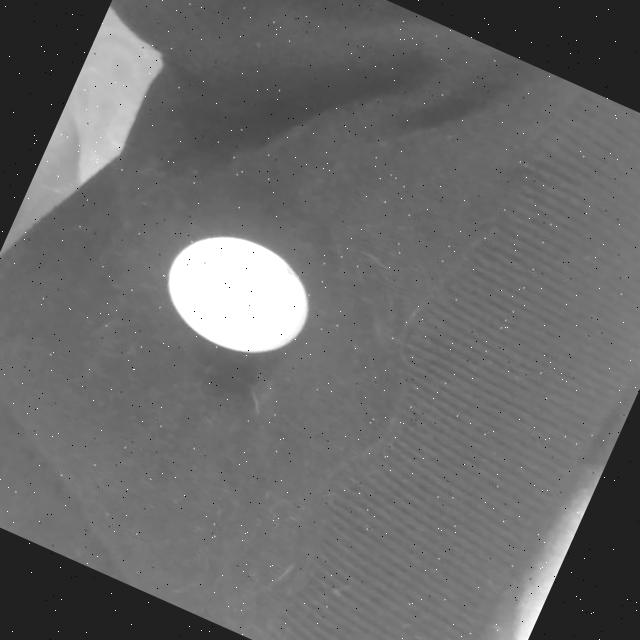ping-pong-ball: (153, 217, 324, 372)
